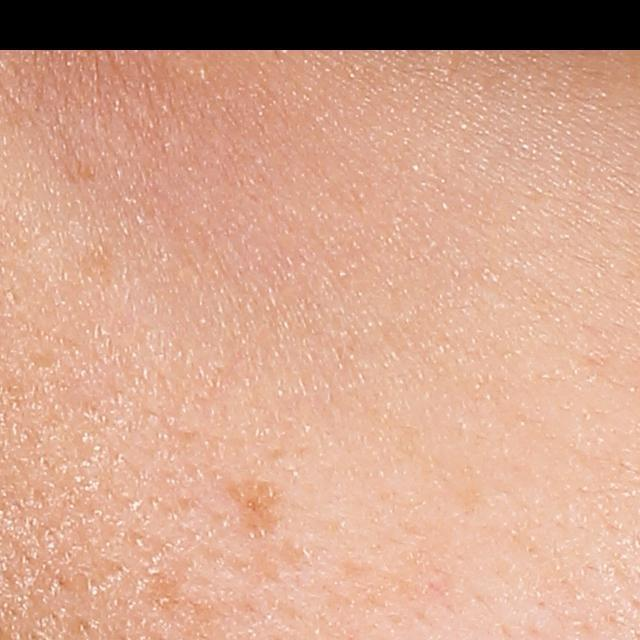melasma: (227, 480, 287, 535), (80, 239, 123, 288)
